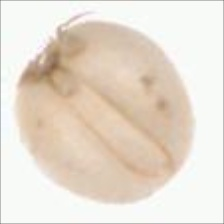L5: (50, 65, 172, 179), (14, 14, 76, 90), (142, 141, 198, 197)
L6: (12, 12, 199, 205)
